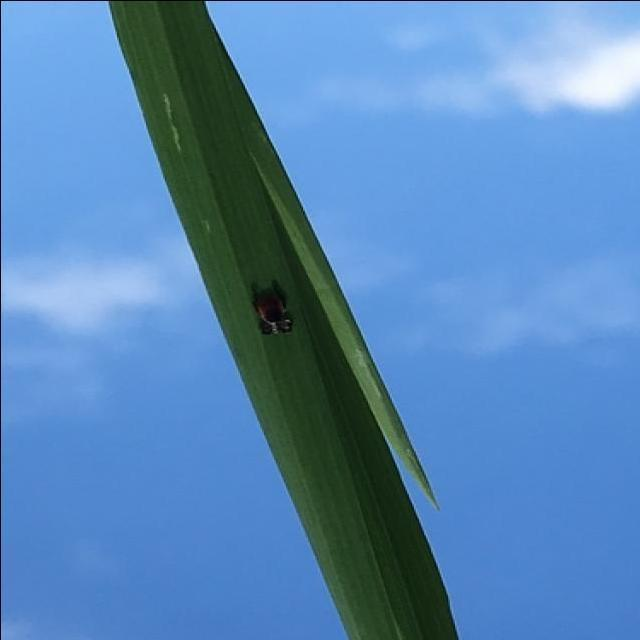Ixodes Ricinus-F: (249, 274, 294, 334)
